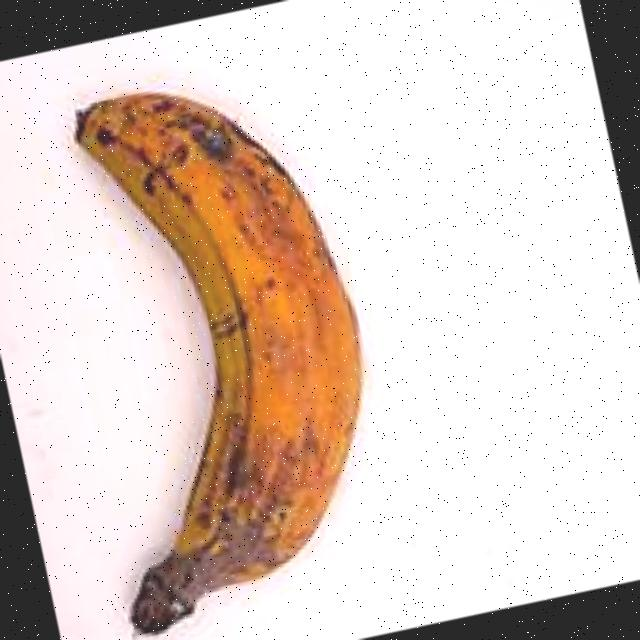Overripe: (0, 19, 464, 640)
